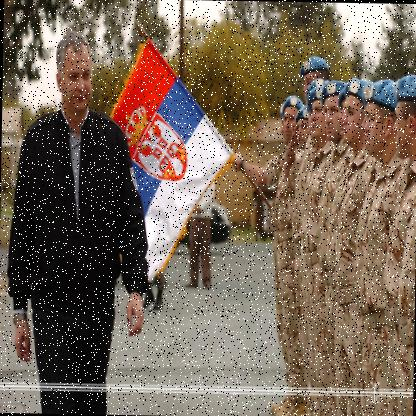rs: (108, 40, 237, 286)
